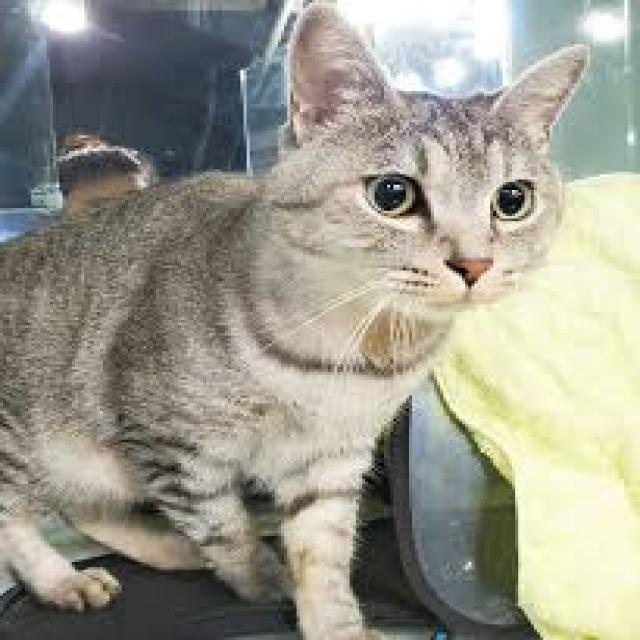cat-face: (204, 33, 640, 331)
